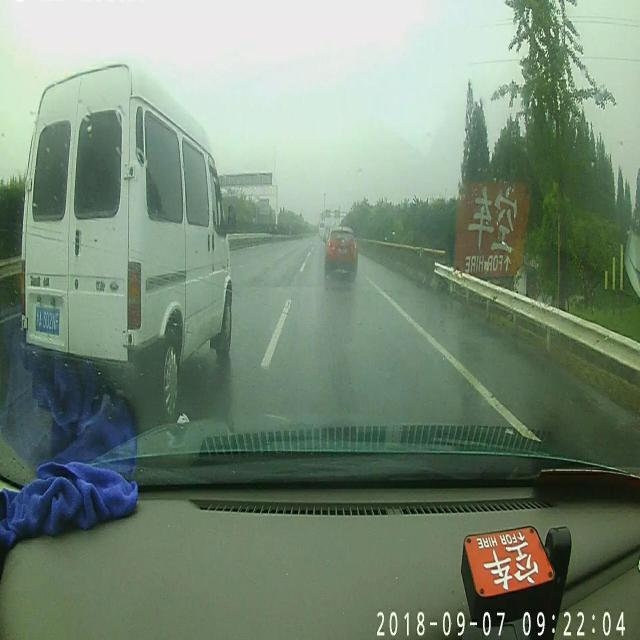car: (19, 67, 235, 412), (324, 224, 358, 274)
